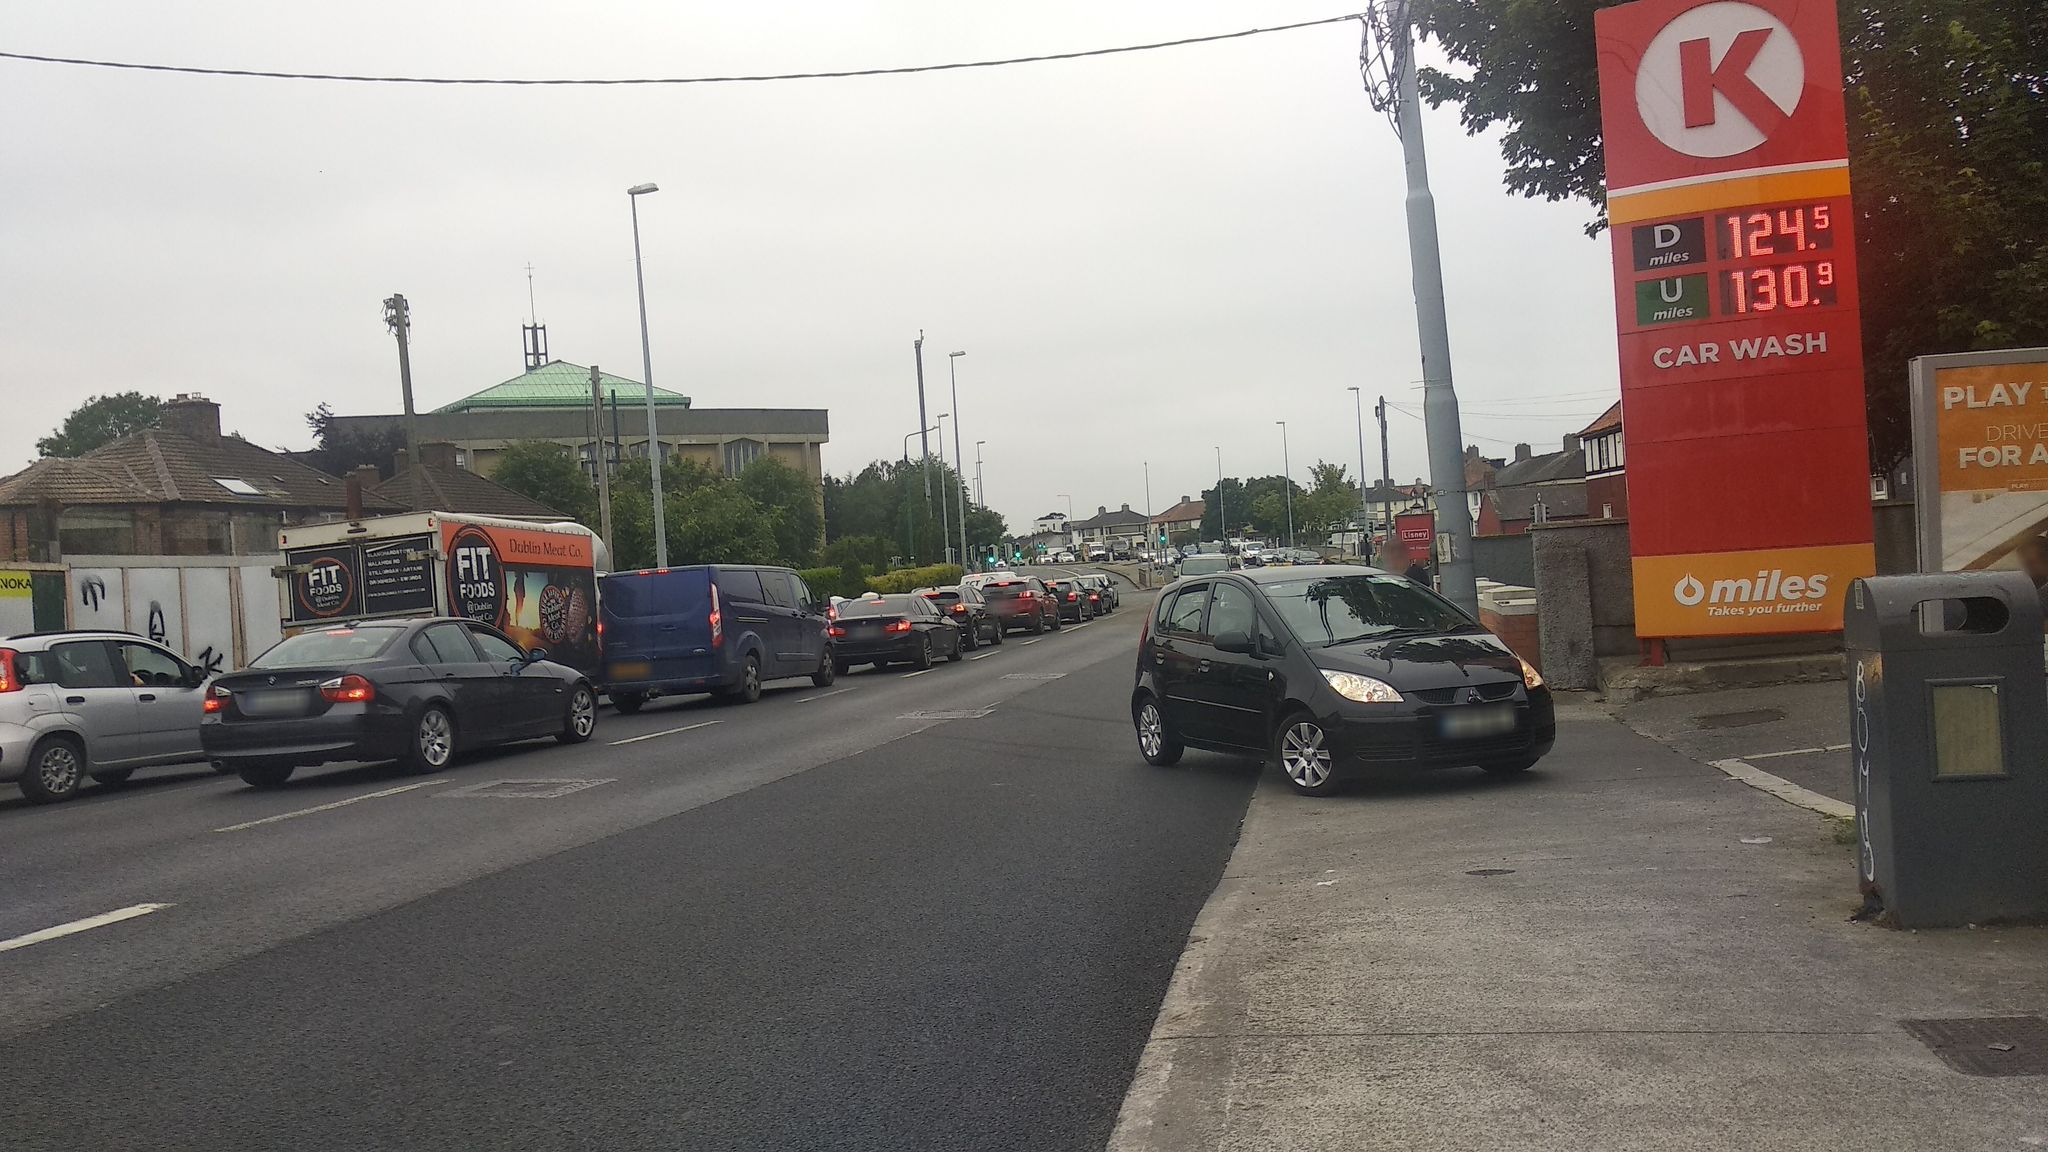property sign: (1377, 491, 1438, 570)
